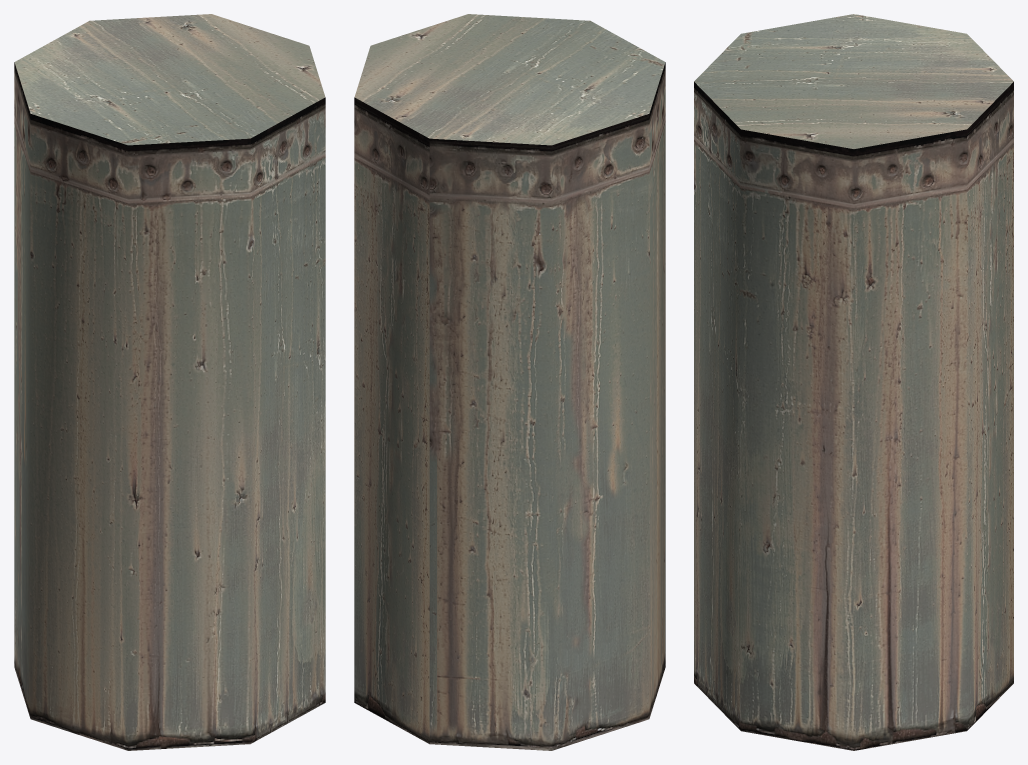
File: pipe_short2.fbx
3 views of the same model, side by side, from view 1: azimuth 30°, elevation 25°; view 2: azimuth 150°, elevation 25°; view 3: azimuth 270°, elevation 25° (orthographic).
Visible parts, largest first — view 1: Mesh Object; view 2: Mesh Object; view 3: Mesh Object.
Part boxes in pixels (x1=…): Mesh Object: x1=14, y1=14, x2=325, y2=750; Mesh Object: x1=354, y1=14, x2=665, y2=750; Mesh Object: x1=694, y1=14, x2=1013, y2=750.
Size of the model in its own units: 0.6259 by 1.3 by 0.6259.
